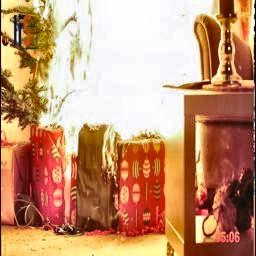fire: (26, 0, 222, 155)
